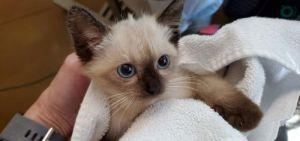siamese: (69, 1, 186, 132)
